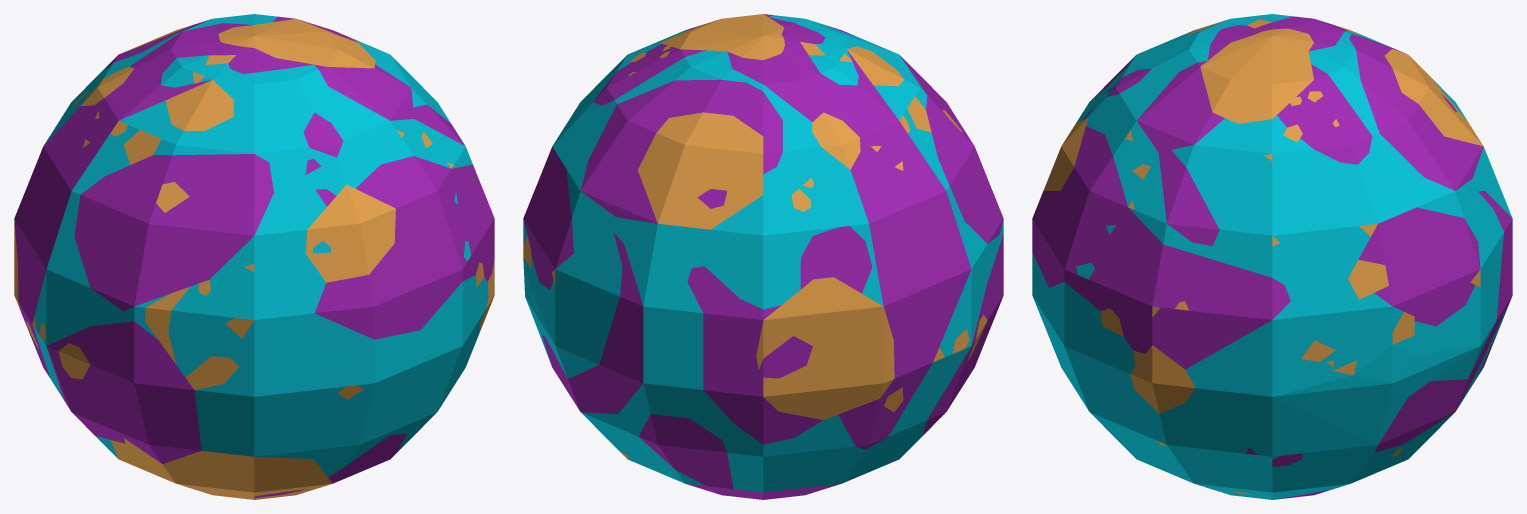
File: Mercury.glb
3 renders of one model, left to right at view 1: azimuth 30°, elevation 25°; view 2: azimuth 150°, elevation 25°; view 3: azimuth 270°, elevation 25°, orthographic.
Parts seen in each view (by area): view 1: group646701568; view 2: group646701568; view 3: group646701568.
Boxes of the visible parts, x1,y1,x2,y2 form: group646701568: [14, 14, 494, 499]; group646701568: [523, 14, 1003, 499]; group646701568: [1032, 14, 1512, 499].
Bounding box in the file's own units: 1.37 × 1.39 × 1.37.
